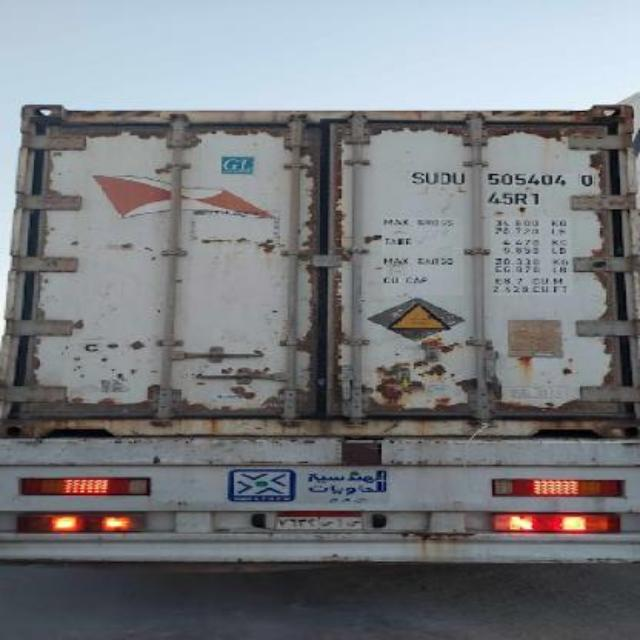0: (576, 172, 600, 188), (538, 171, 552, 187), (500, 172, 512, 184)
4: (526, 170, 542, 186), (554, 172, 568, 186)
5: (484, 170, 500, 186), (512, 169, 528, 185)
D: (436, 167, 452, 187)
S: (411, 166, 424, 188)
U: (452, 168, 466, 188), (424, 169, 438, 187)
